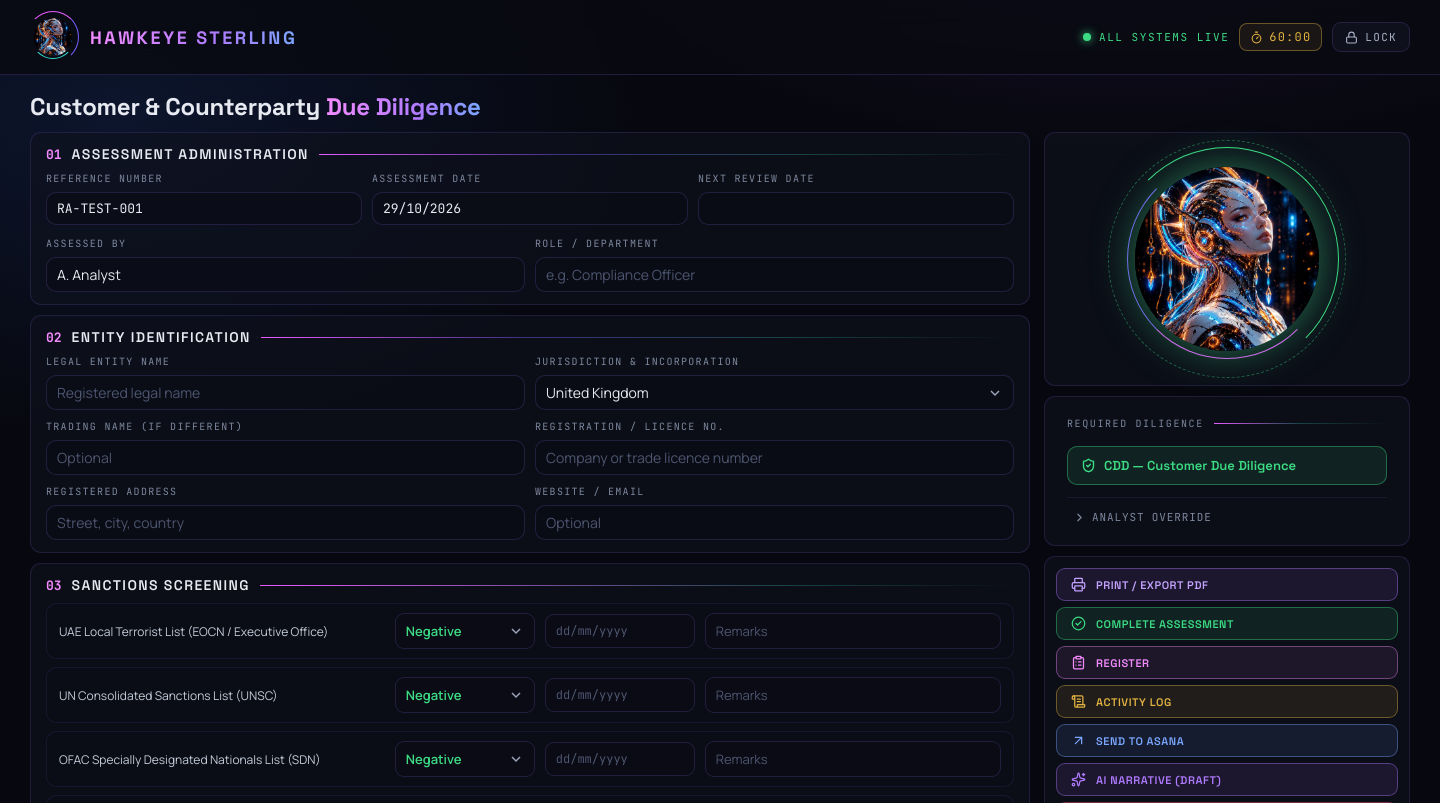
Test case: analyst override (UI) › recolours the diligence pill via the override popover
The width and height of the screenshot is (1440, 803).
Expected: the text "CDD — Customer Due Diligence" is shown, top-left (1067, 446), bottom-right (1387, 485)
Click the button "ANALYST OVERRIDE": click(1152, 517) top-left (1067, 497), bottom-right (1387, 525)
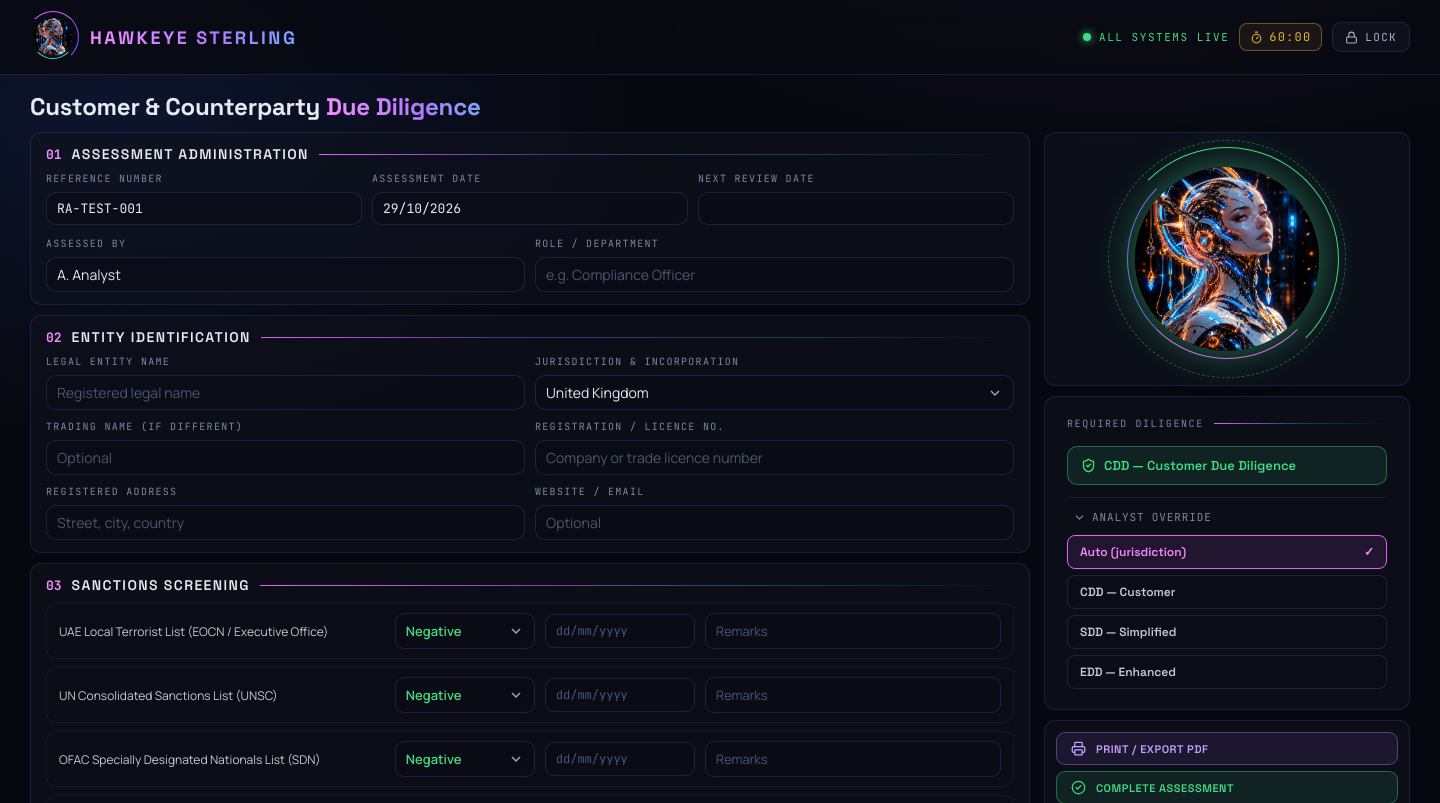
Click the button "EDD — Enhanced": click(1128, 672) top-left (1067, 655), bottom-right (1387, 689)
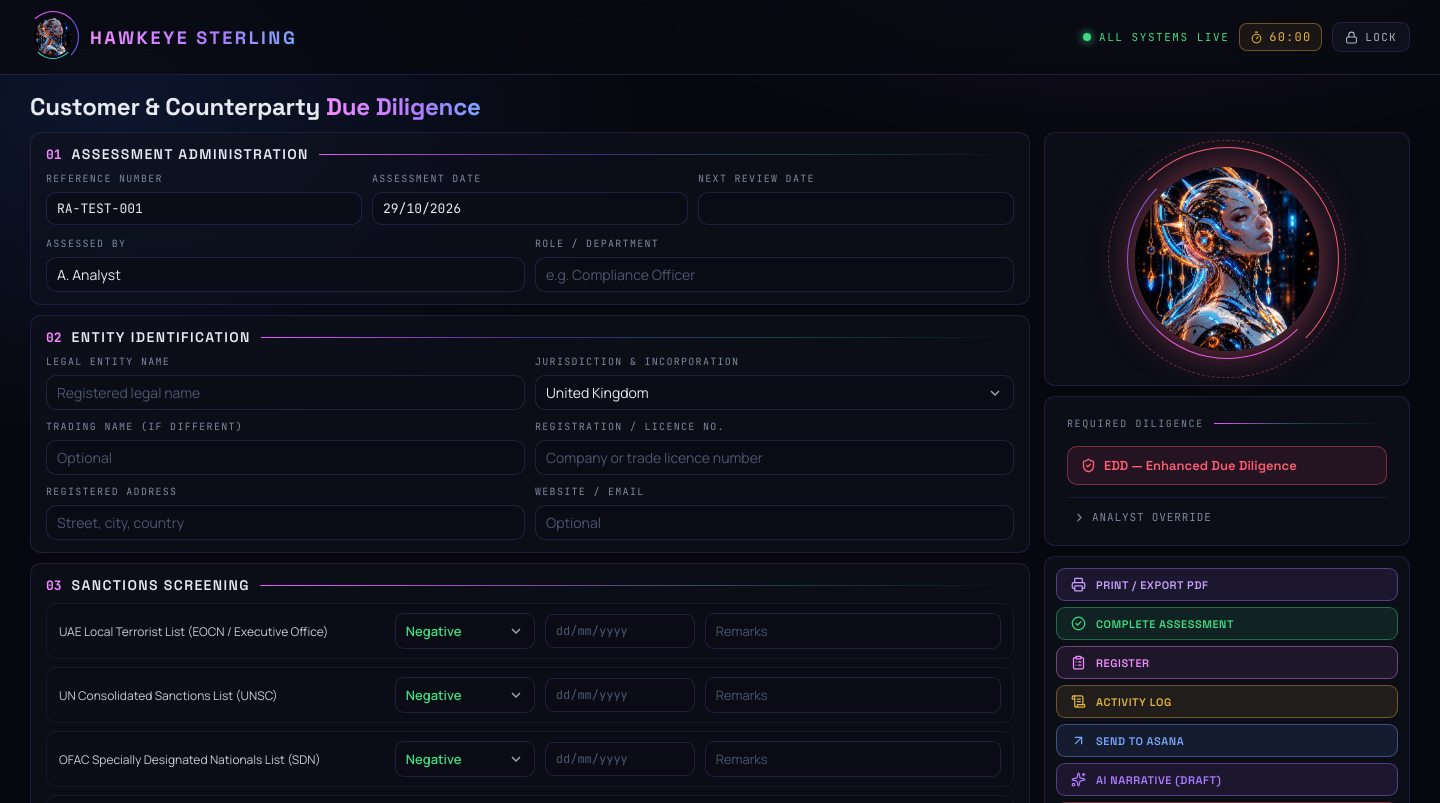
Expected: the text "EDD — Enhanced Due Diligence" is shown, top-left (1067, 446), bottom-right (1387, 485)
